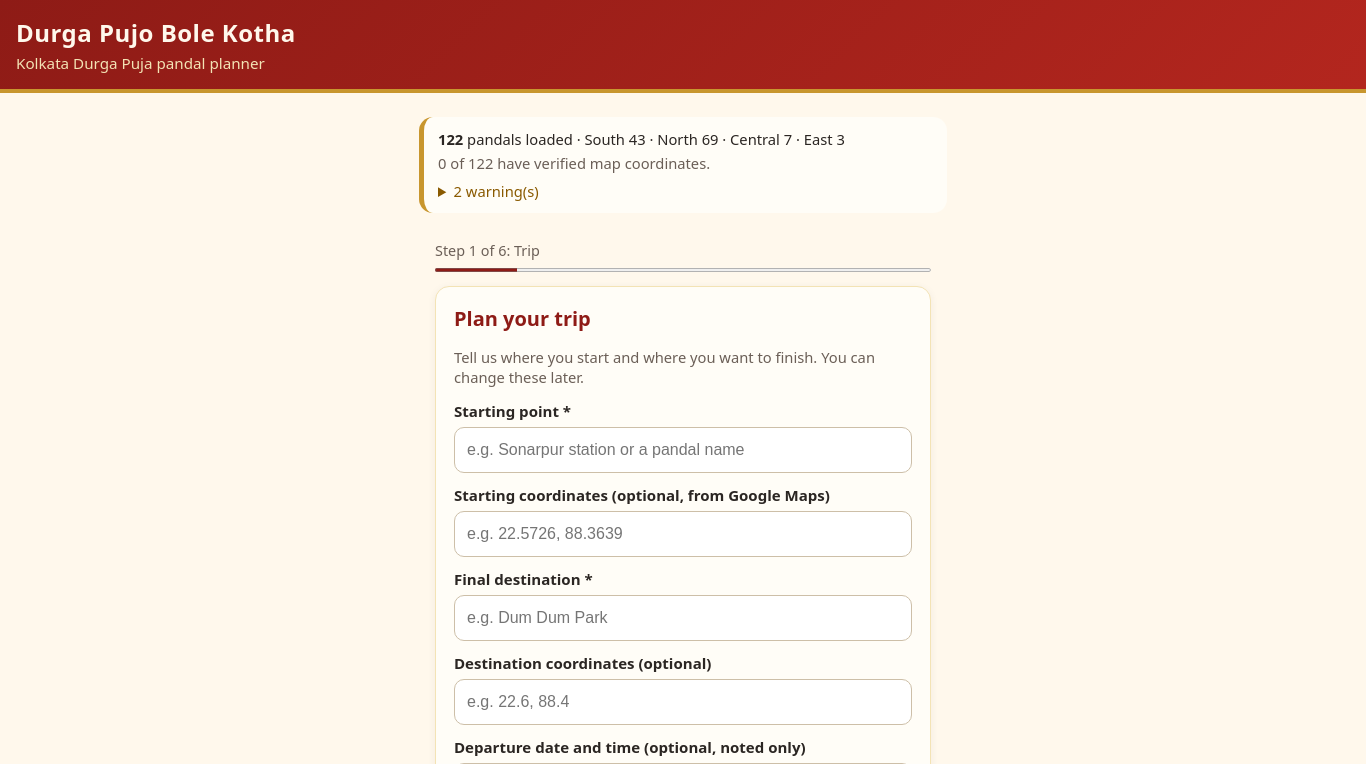
Durga Pujo Bole Kotha guided flow › searches by name and shows a message when nothing matches
In the field labelled "Starting point *": (683, 450) [454, 427, 912, 473], type "Sonarpur station"
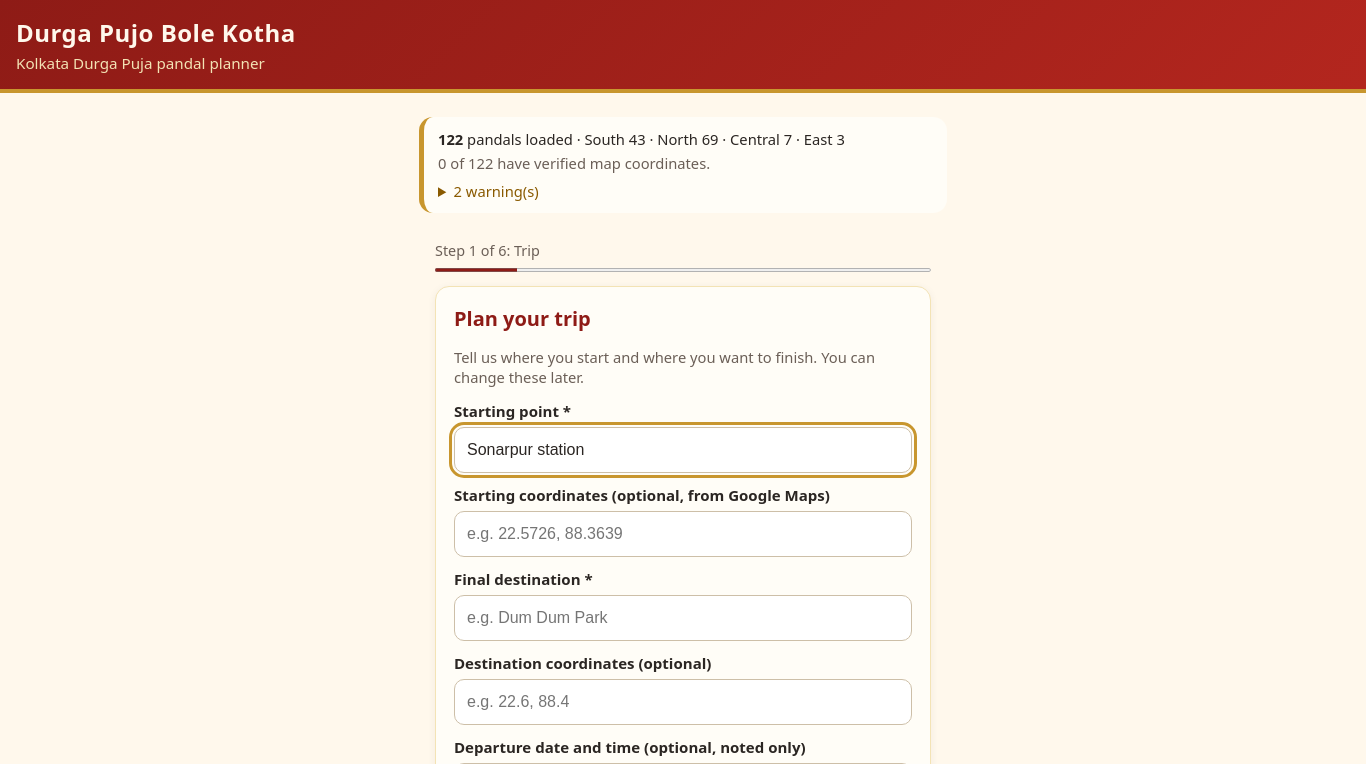
In the field labelled "Final destination *": (683, 618) [454, 595, 912, 641], type "Dum Dum Park"
(page scrolled)
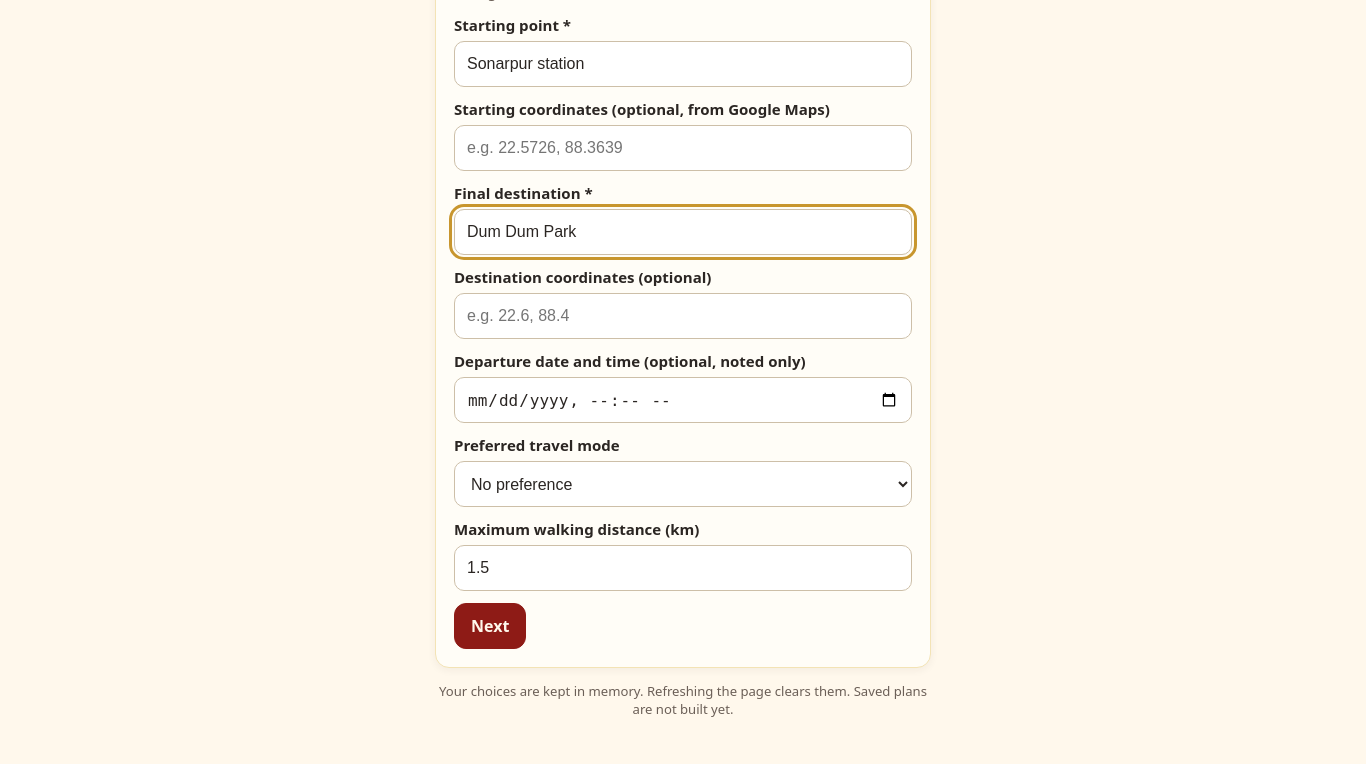
Click the button "Next": (490, 626) [454, 603, 526, 649]
(page scrolled)
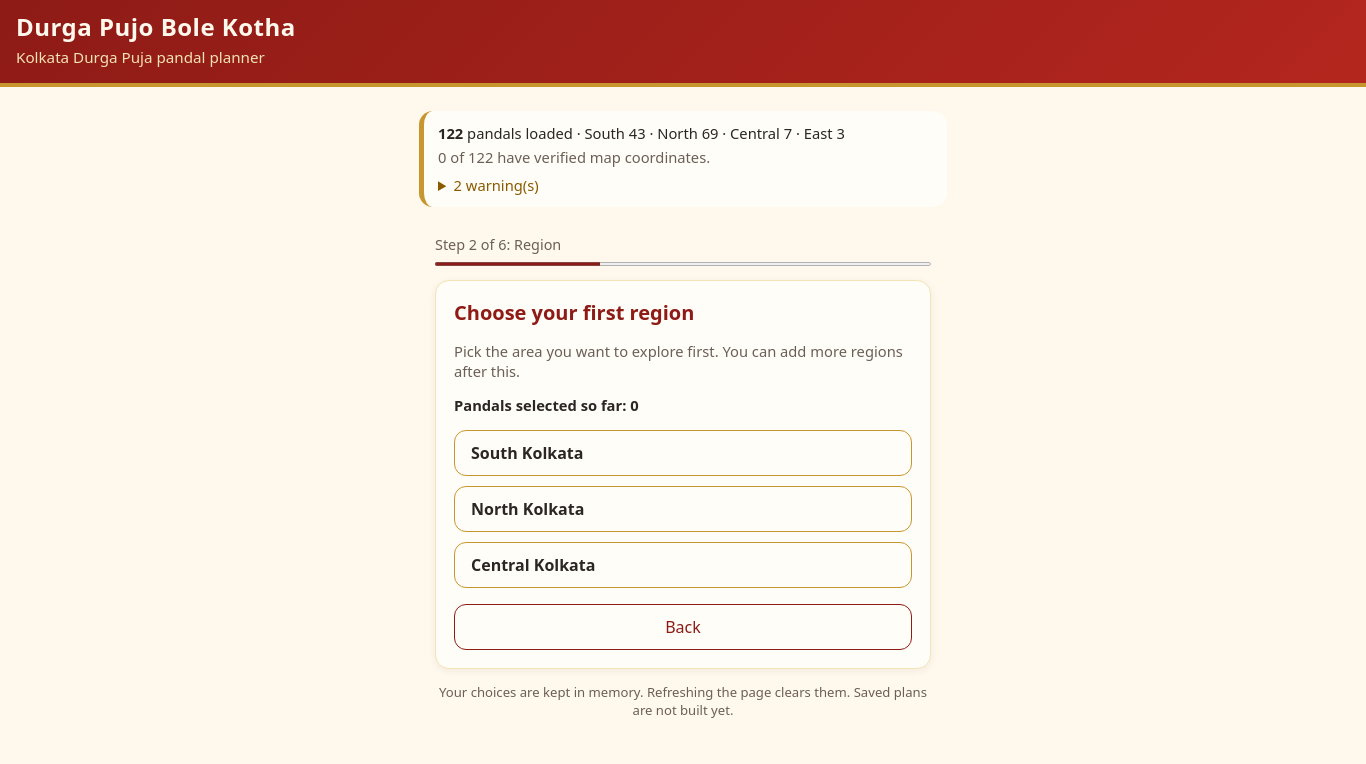
Click the button "South Kolkata": (527, 453) [454, 430, 912, 476]
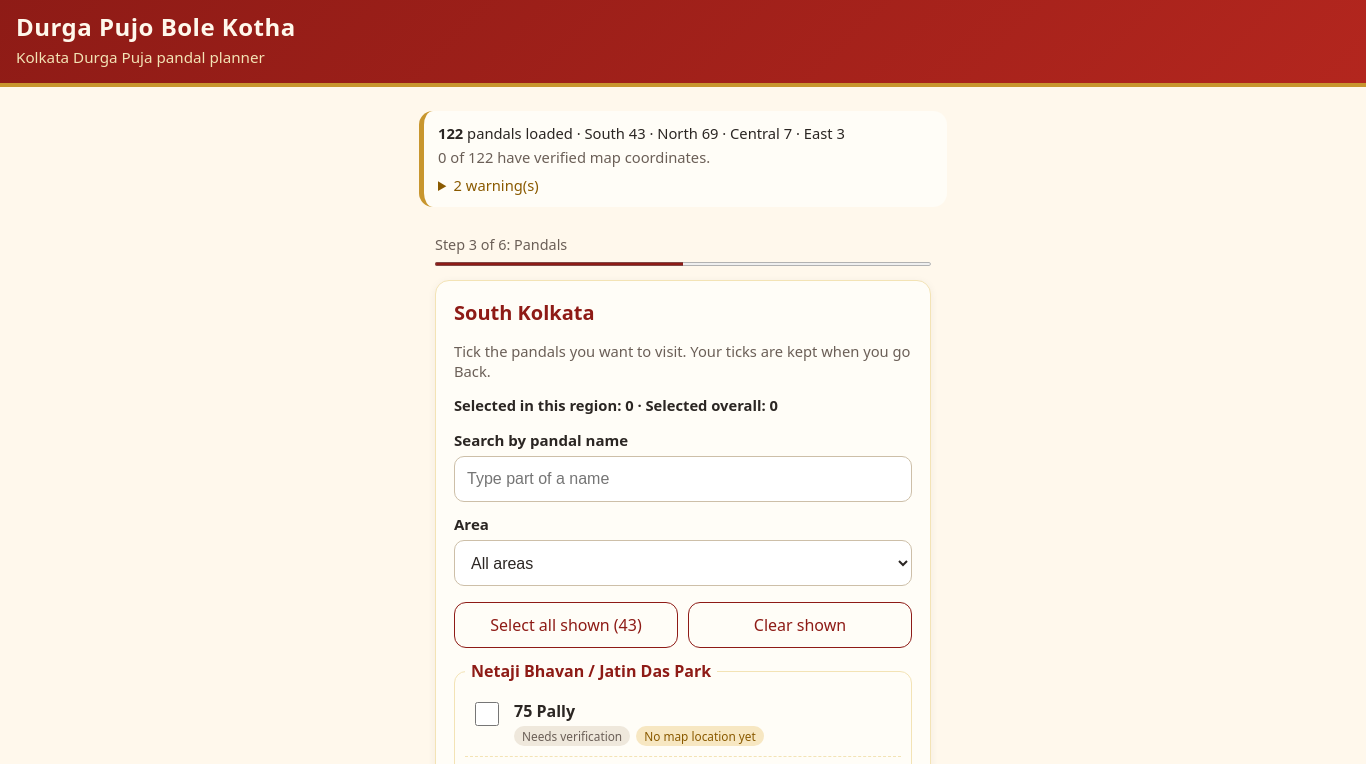
In the search field: (683, 479) [454, 456, 912, 502], type "zzzz"
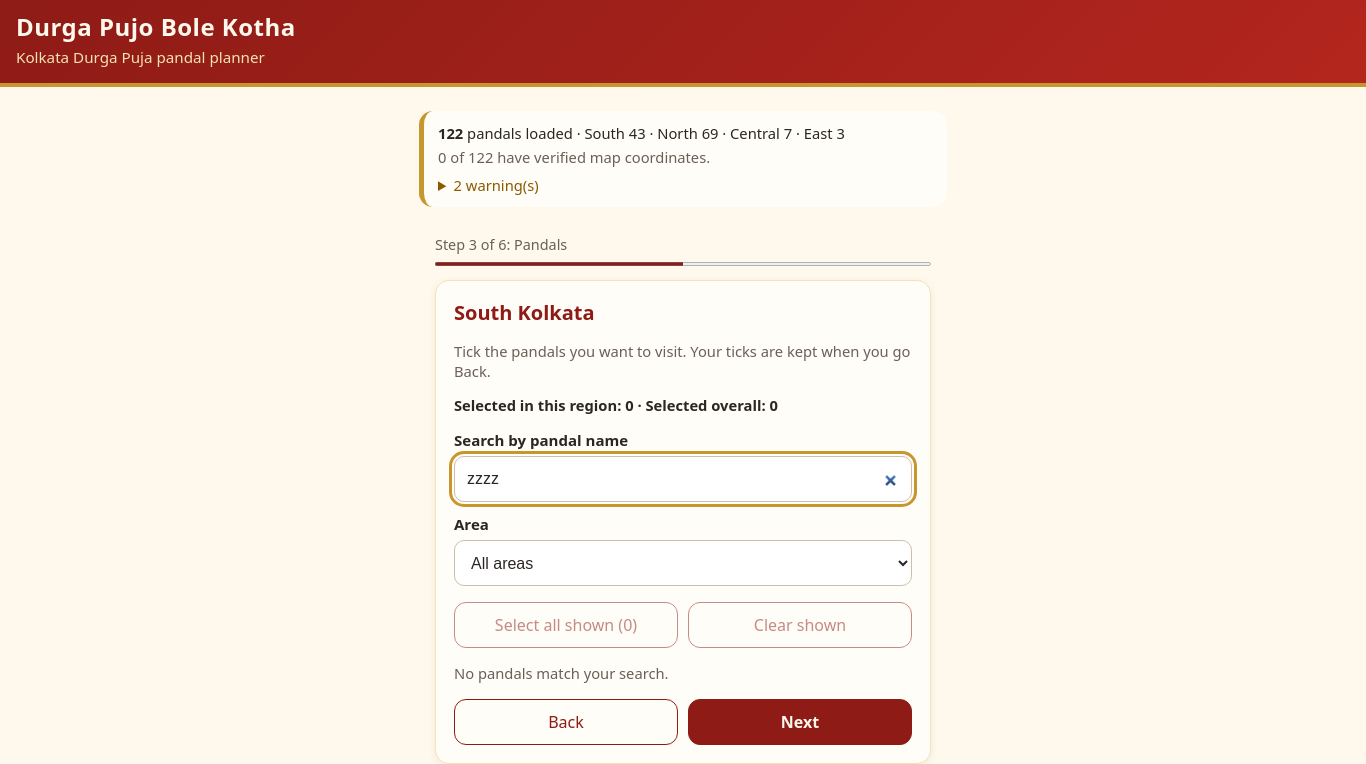
expect the text "No pandals match your search." is shown: met, box [454, 663, 668, 683]
Replace the text in the search field with "Behala": (683, 479) [454, 456, 912, 502]
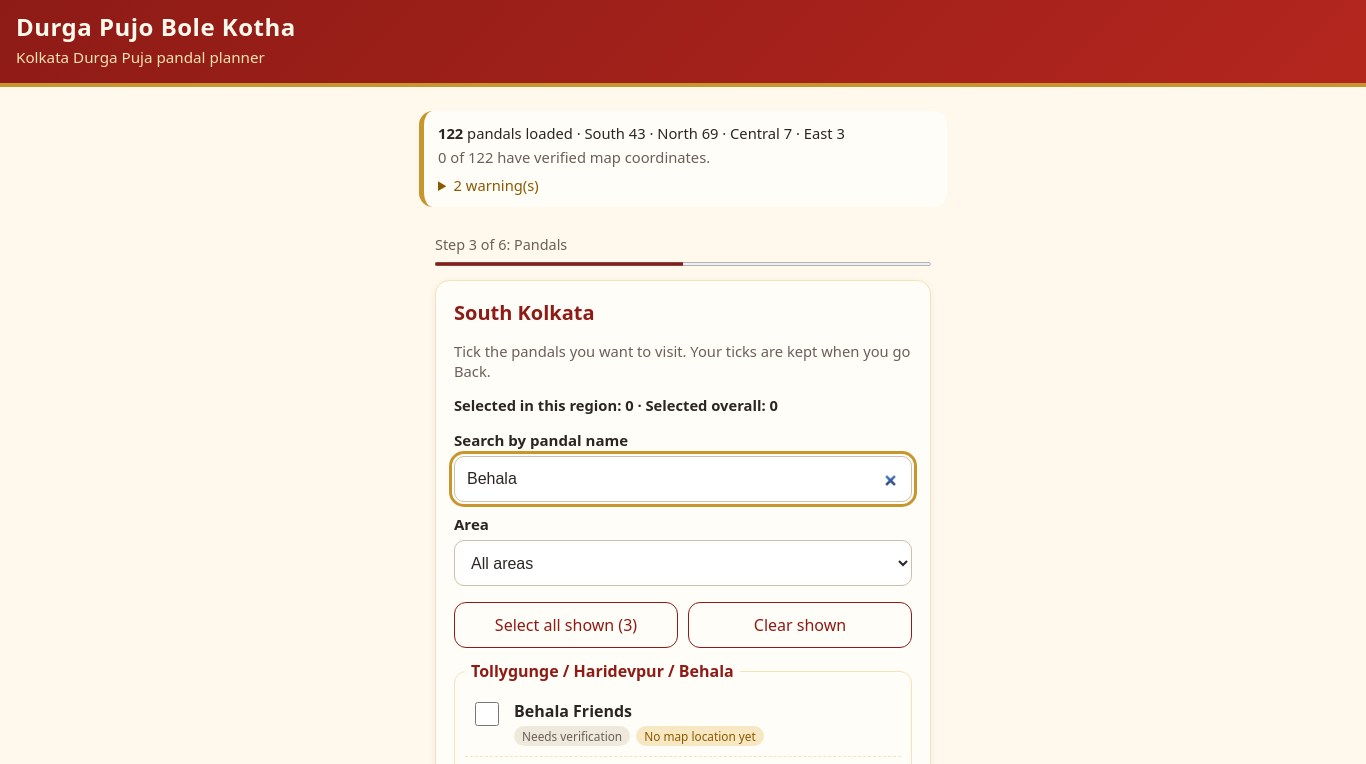
expect the checkbox labelled "Behala Friends Needs verification No map location yet" is shown: met, box [475, 702, 499, 726]
expect the text "75 Pally" is gone: met
